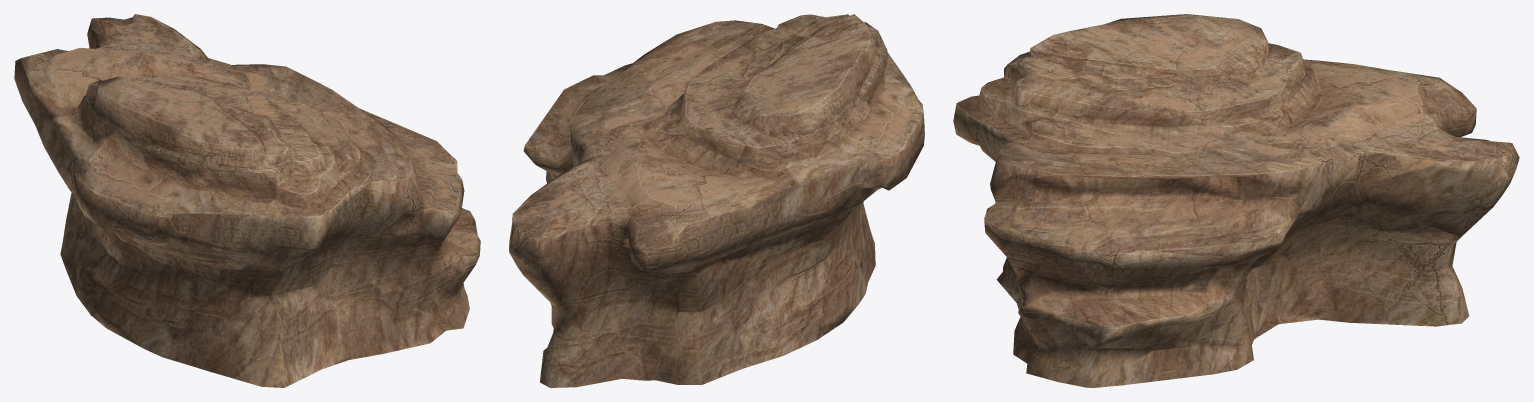
File: rock_medium02.dae
The picture shows the model from 3 angles, left to right: view 1: azimuth 30°, elevation 25°; view 2: azimuth 150°, elevation 25°; view 3: azimuth 270°, elevation 25°; orthographic projection.
Parts seen in each view (by area): view 1: Mesh; view 2: Mesh; view 3: Mesh.
Part boxes in pixels (<box>): Mesh: <box>14,14,480,387</box>; Mesh: <box>509,14,924,387</box>; Mesh: <box>953,14,1519,387</box>.
Bounding box in the file's own units: 5.13 × 3.14 × 6.89.
